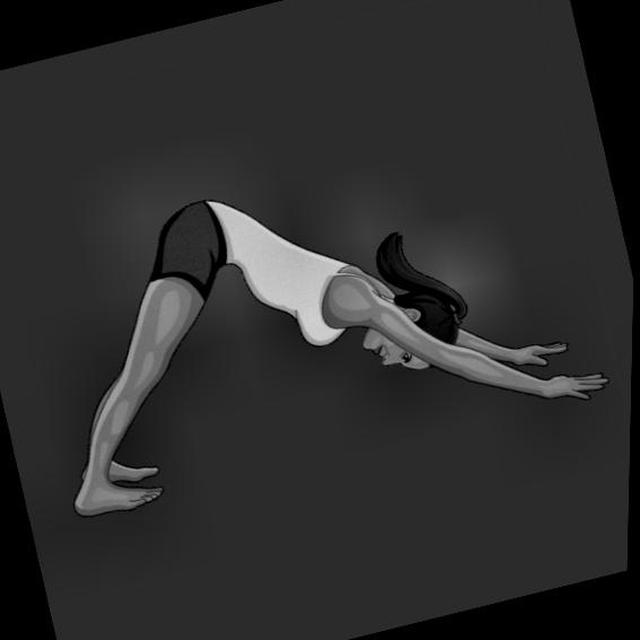Downward-Facing_Dog: (64, 186, 618, 520)
